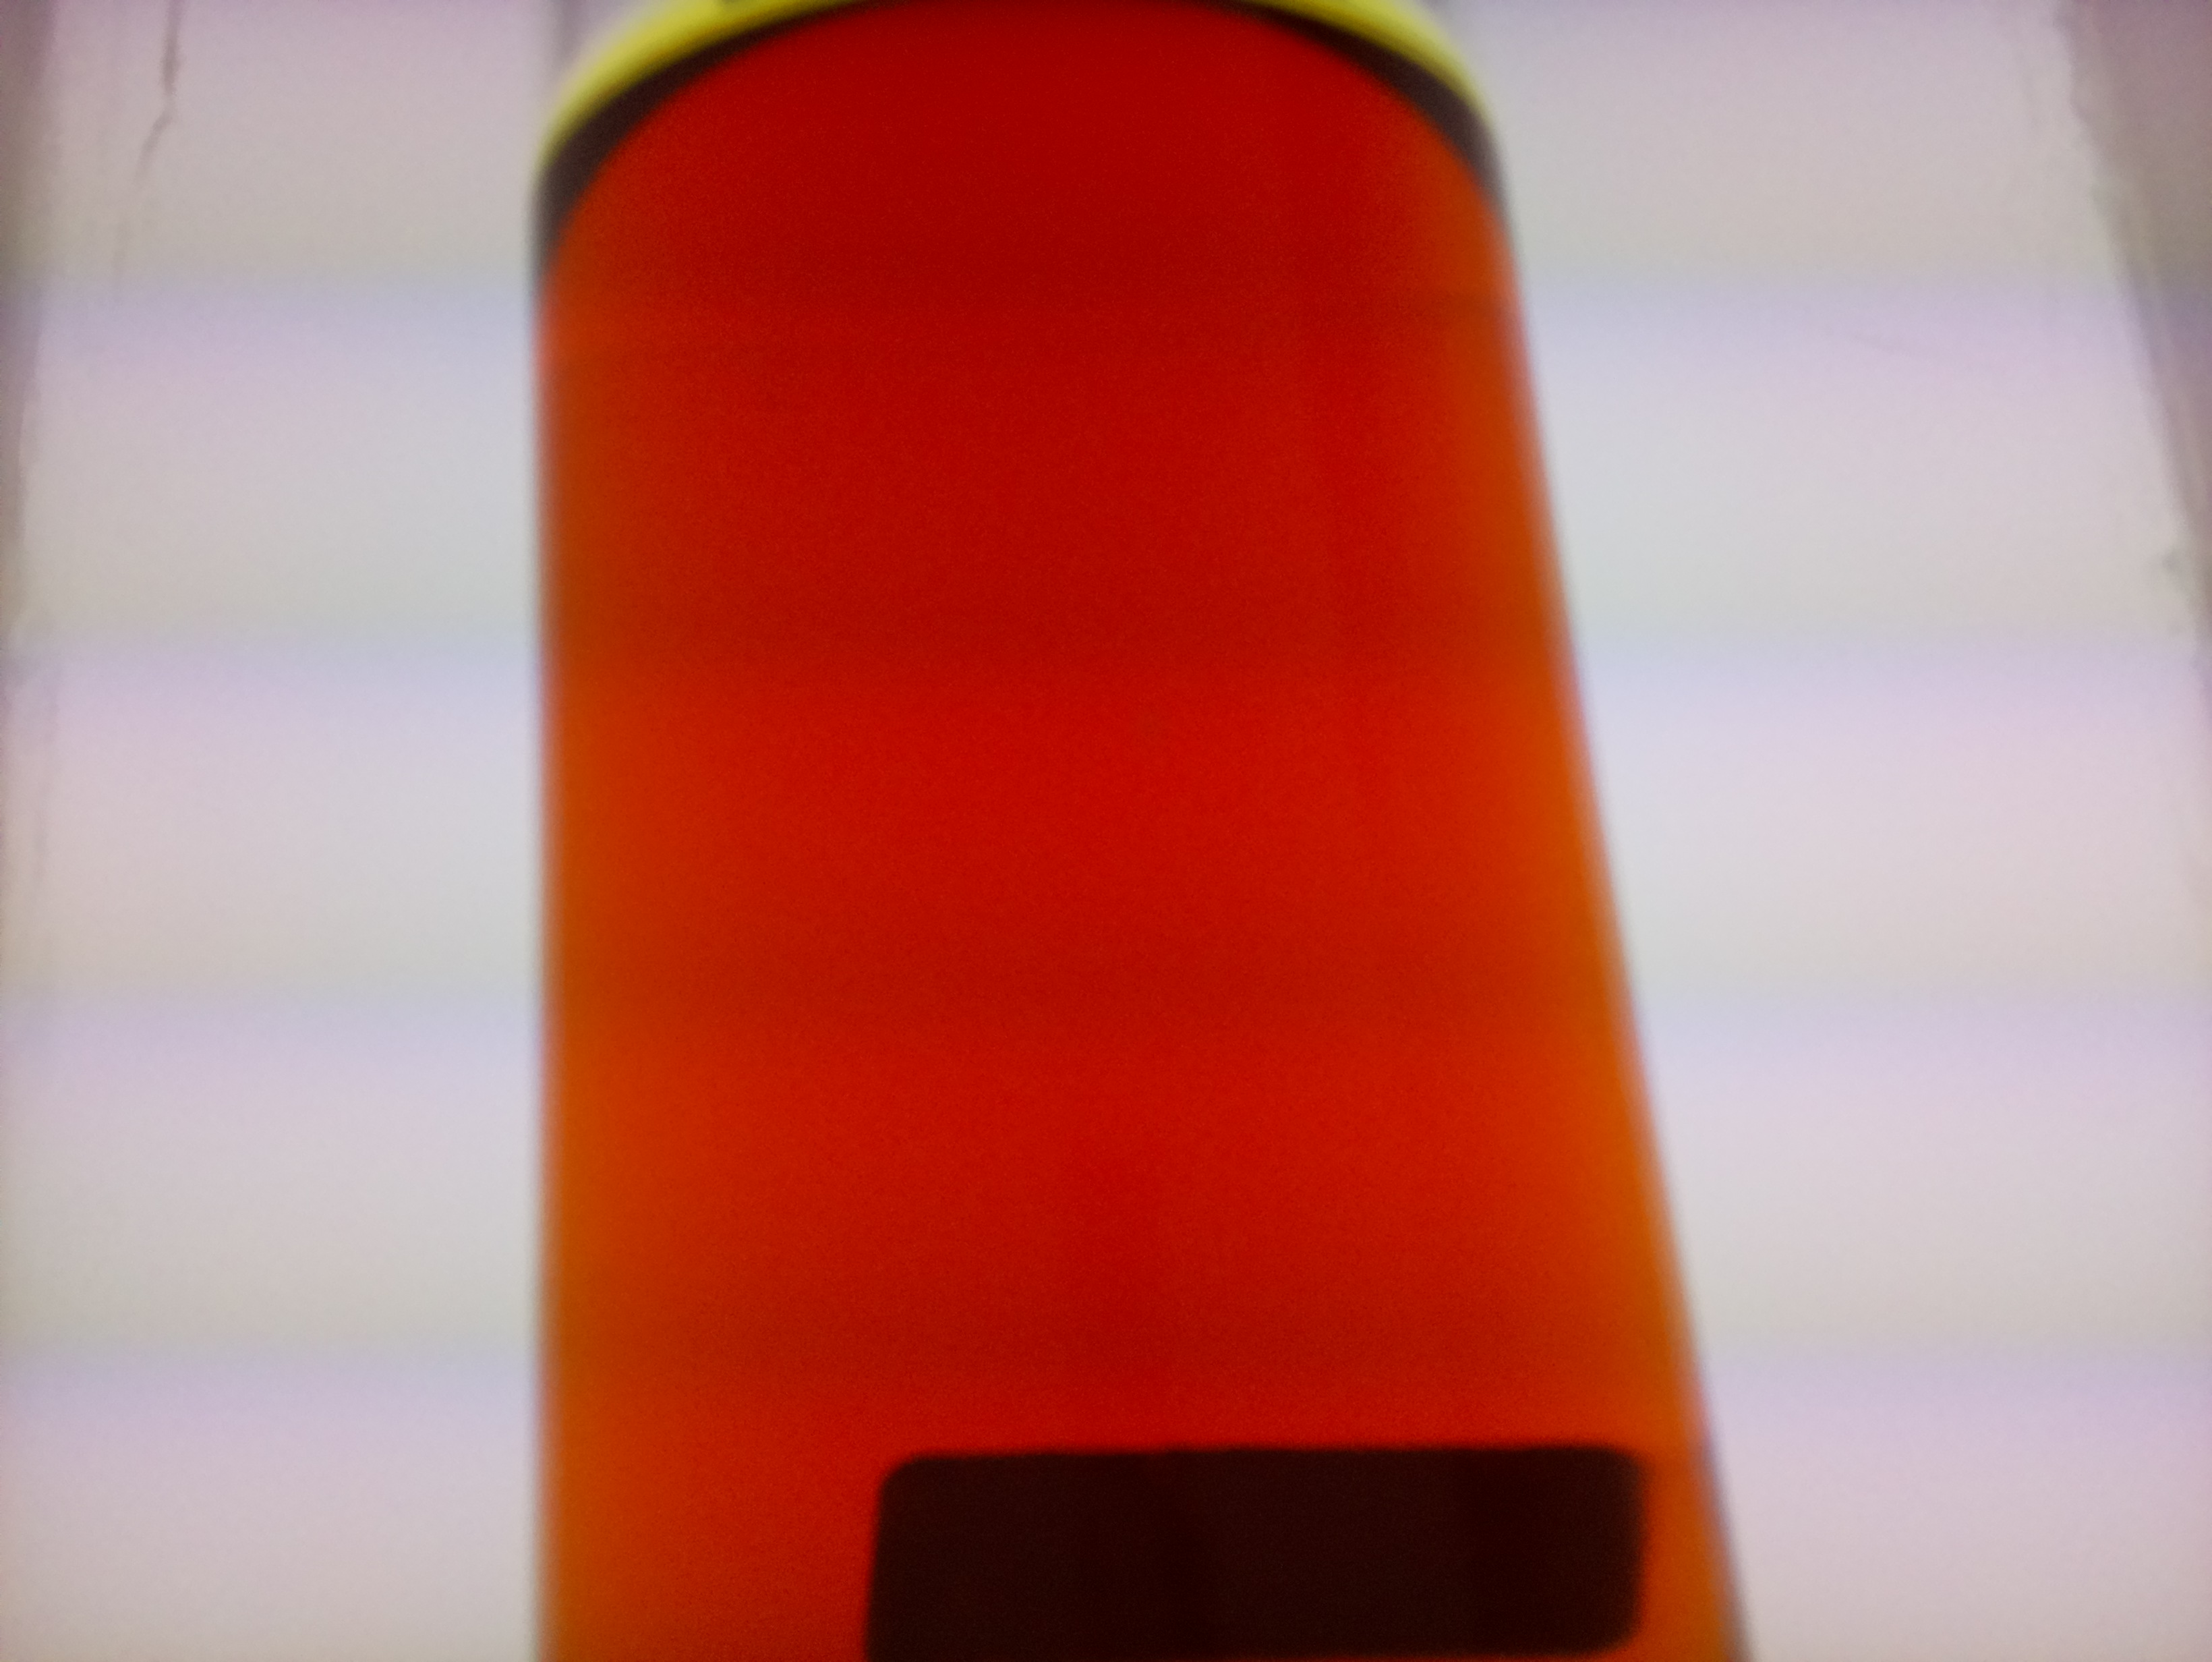colored_area: (520, 2, 1732, 1652)
